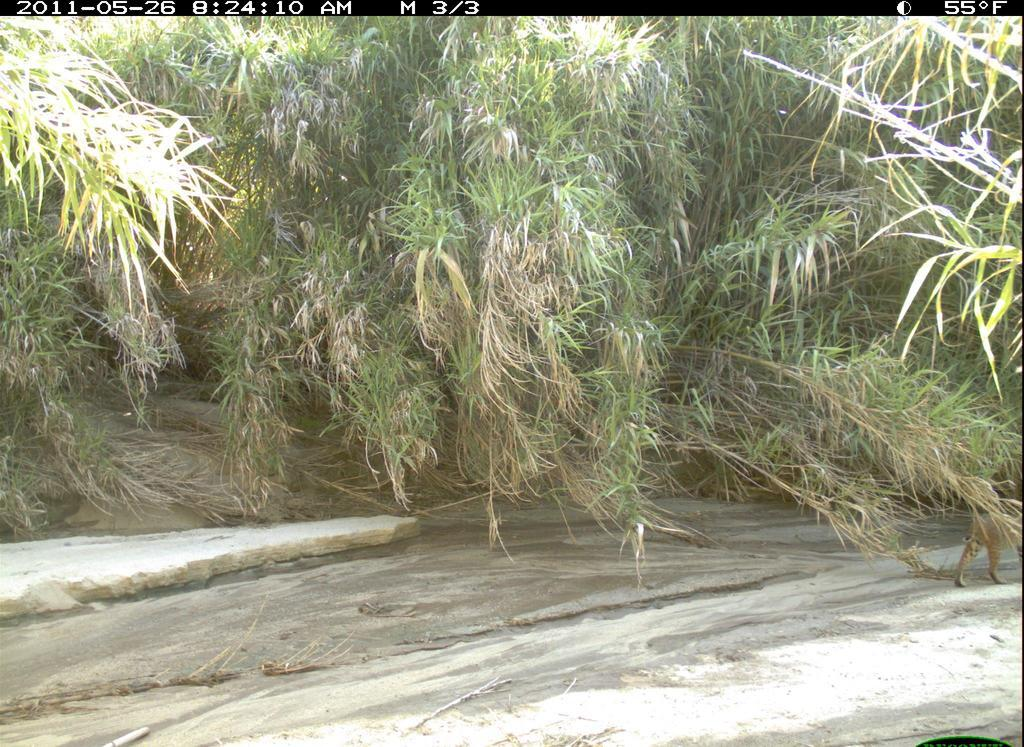bobcat: (946, 498, 1023, 594)
